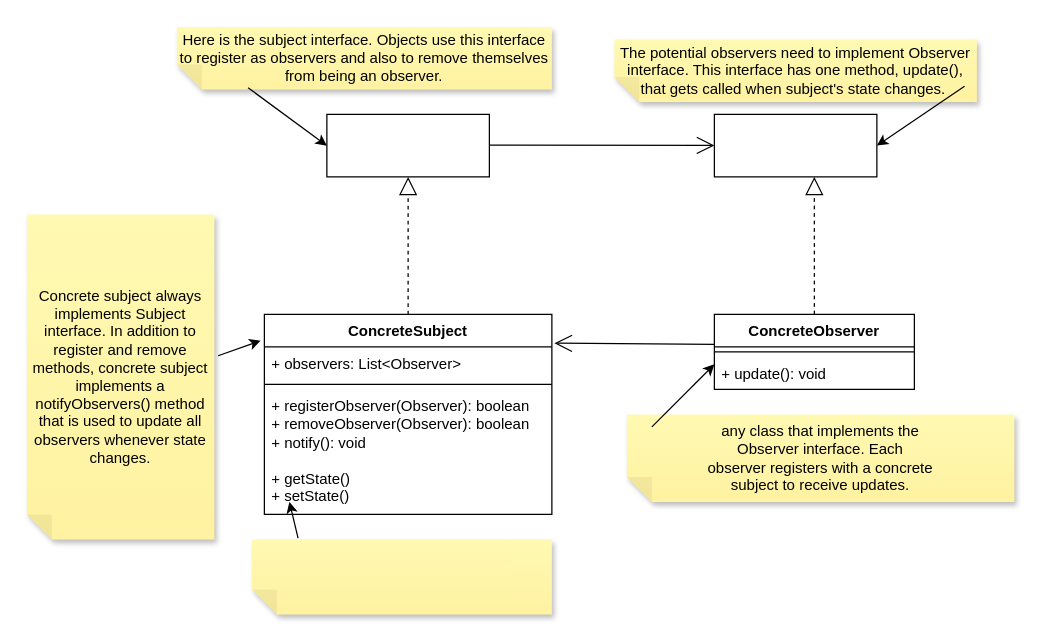
This 1043x644 diagram has some shape labels left out. The shapes that lost their labels are listed below. From the top down, each one's centre as x and y in pixels, then its label:
pixel 407 145: «interface» Subject
pixel 795 145: «interface» Observer
pixel 402 578: The concrete subject may also have methods for setting and getting its state.
